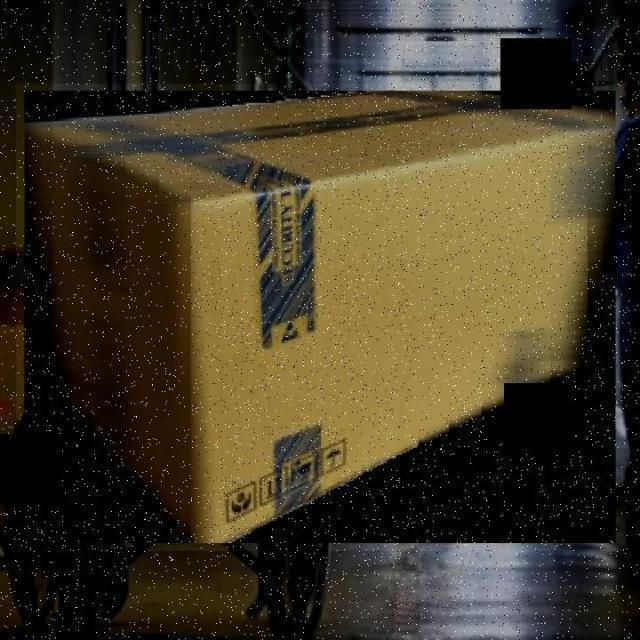box: (16, 84, 626, 552)
